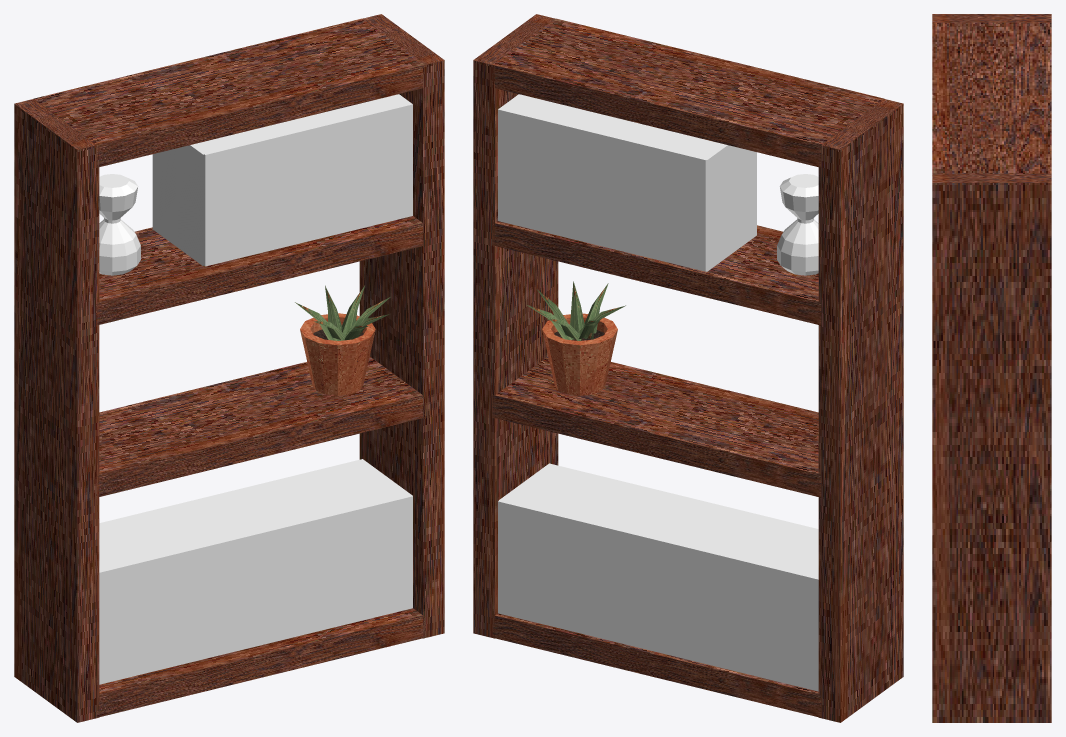
The model's file is bookcase_1.gltf.
3 views of the same model, side by side, from view 1: azimuth 30°, elevation 25°; view 2: azimuth 150°, elevation 25°; view 3: azimuth 270°, elevation 25° (orthographic). The views are drawn at different scales.
Parts seen in each view (by area): view 1: Shelf-col, Cube, Cube.001, Plane, Plane.002, Cylinder, Cylinder.002, Plane.001; view 2: Shelf-col, Cube, Cube.001, Plane, Plane.002, Plane.001, Cylinder, Cylinder.002; view 3: Shelf-col.
Part boxes in pixels (x1,y1,x2,y2): Shelf-col: (14, 14, 444, 722); Cube: (99, 496, 412, 684); Cube.001: (190, 94, 412, 266); Plane: (99, 459, 412, 572); Plane.002: (152, 145, 203, 265); Cylinder: (300, 313, 375, 395); Cylinder.002: (99, 174, 140, 275); Plane.001: (190, 94, 410, 154); Shelf-col: (473, 14, 903, 722); Cube: (498, 500, 818, 691); Cube.001: (498, 94, 727, 271); Plane: (499, 463, 818, 578); Plane.002: (706, 145, 756, 271); Plane.001: (500, 94, 727, 159); Cylinder: (542, 313, 617, 395); Cylinder.002: (777, 174, 818, 275); Shelf-col: (932, 14, 1051, 722).
Bounding box in the file's own units: 6.71 × 10 × 2.
Materials: 16 (10 with a texture image).
